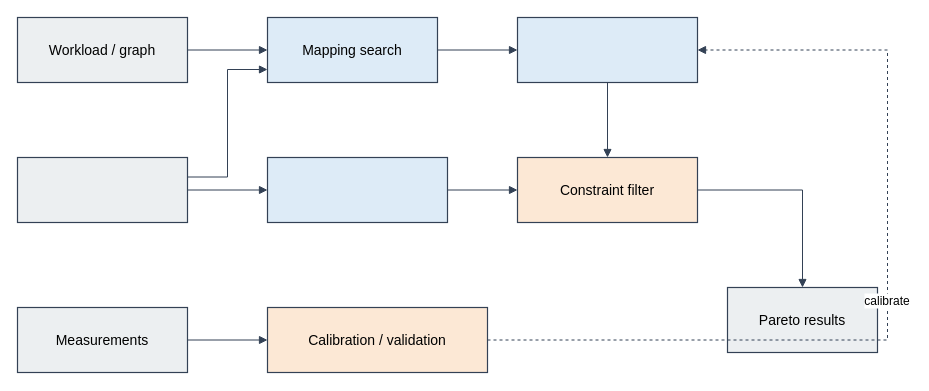
This 929x391 diagram has some shape labels left out. Each missing label, with the centre of its shape:
"Area / energy model" belongs at point (357, 189).
"Hardware candidates" belongs at point (102, 189).
"Performance model" belongs at point (607, 49).
